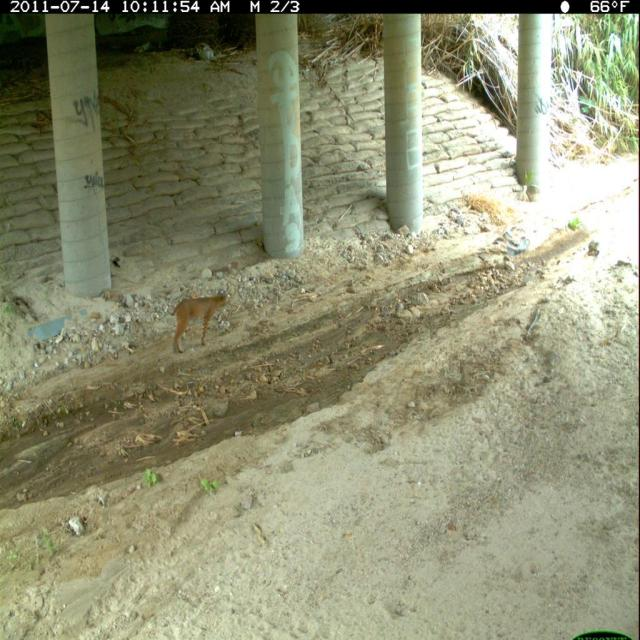bobcat: (170, 287, 235, 359)
